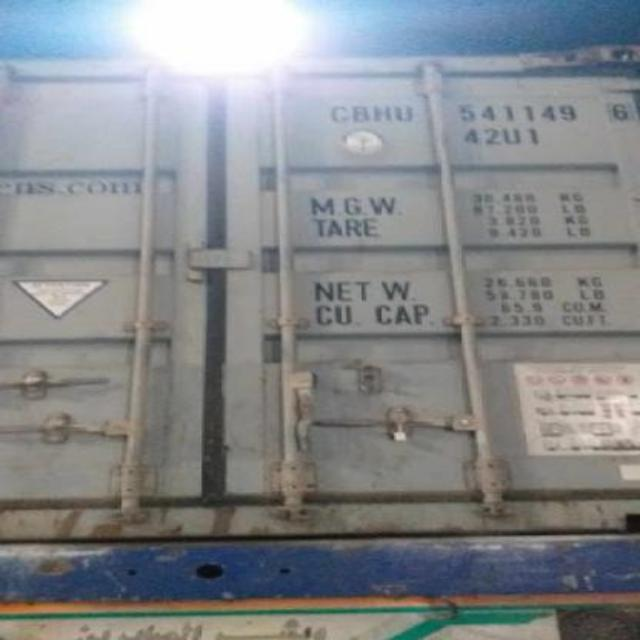1: (498, 100, 520, 124), (520, 99, 538, 125)
4: (474, 98, 498, 126), (536, 98, 558, 125)
5: (452, 101, 476, 122)
6: (600, 98, 638, 126)
9: (558, 97, 580, 129)
B: (348, 97, 368, 123)
C: (330, 101, 350, 125)
H: (368, 100, 392, 124)
U: (392, 99, 418, 125)
